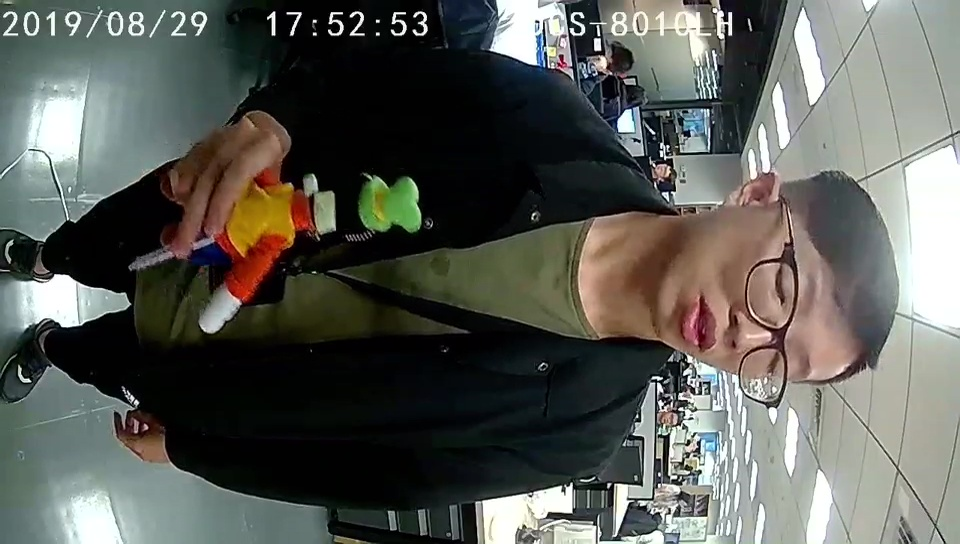goofy: (187, 169, 422, 333)
